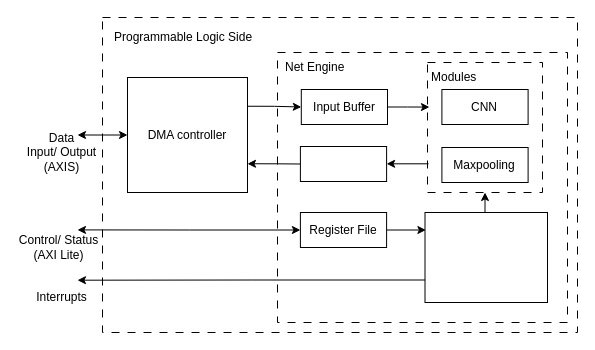
The diagram is 595 pixels wide and 350 high, and some of its shapes have lost their labels. The centre of each missing label's shape, as x and y in pixels:
"Controller" belongs at pixel 486 257.
"Output Buffer" belongs at pixel 343 164.
